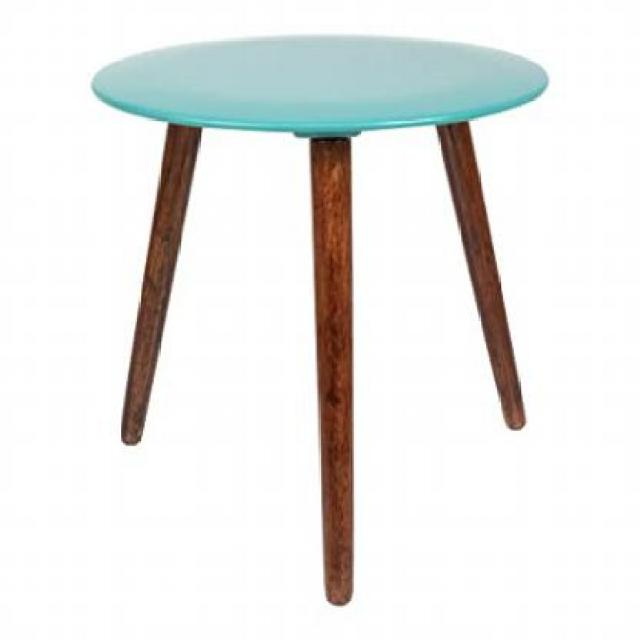table: (84, 33, 553, 607)
